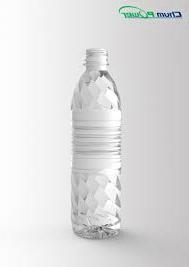Plastic: (71, 48, 122, 239)
